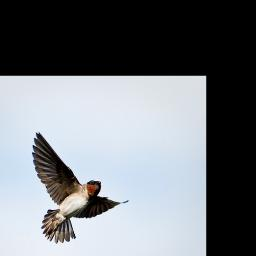Swallow: (31, 130, 130, 246)
